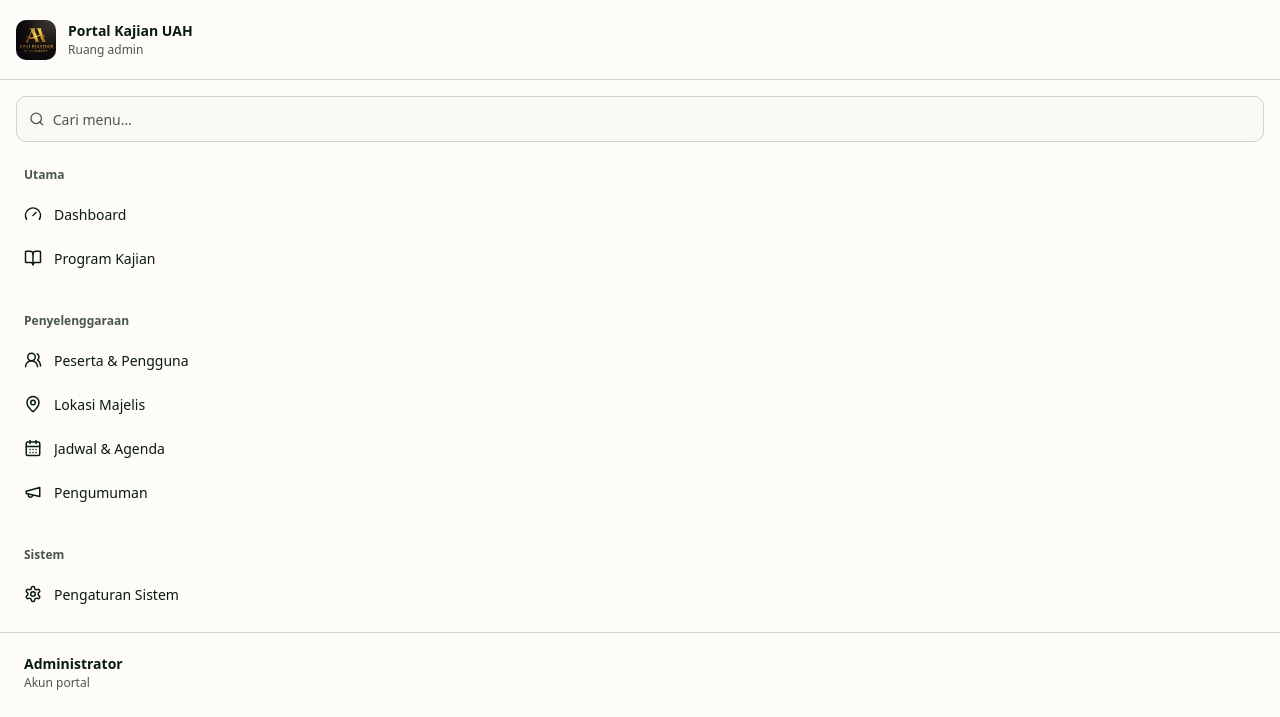
Test: Portal navigation › searches menus and offers a reset when there are no matches
This screenshot has width=1280, height=717.
Type "kuis" into the search field named "Cari menu admin" at [652, 119], box x1=53 y1=97 x2=1251 y2=141
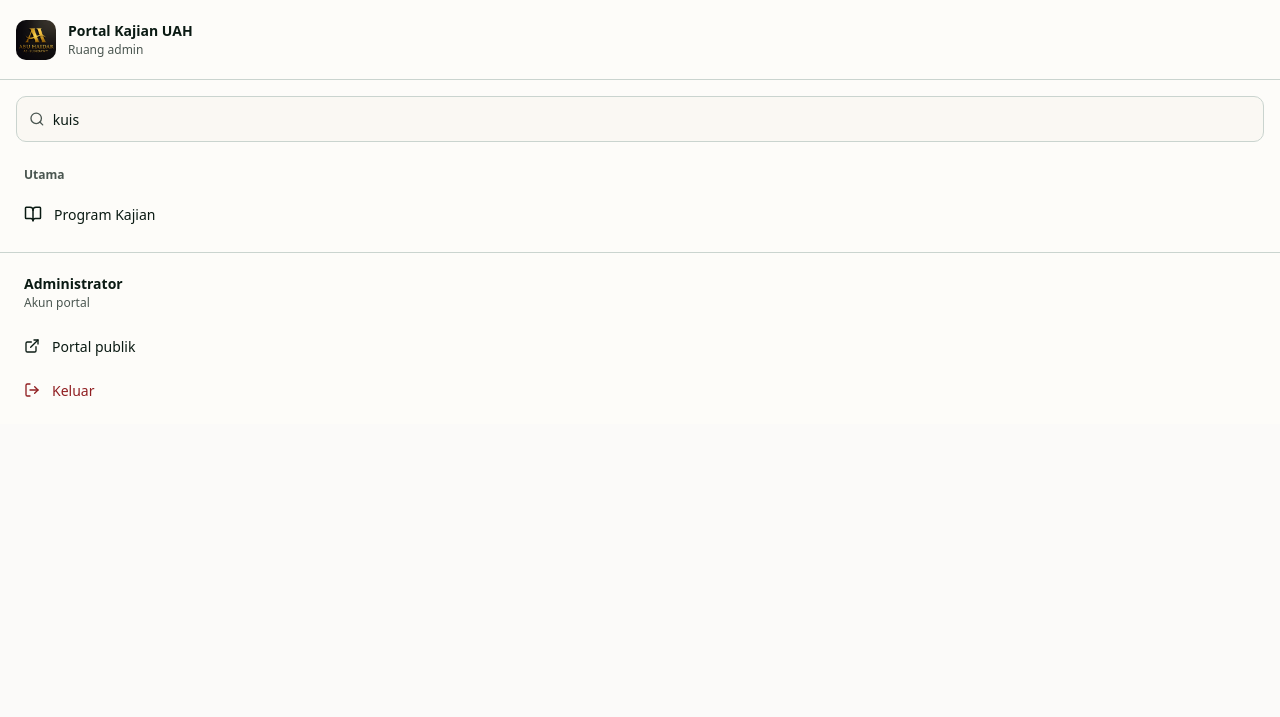
Result: the link "Pengaturan Sistem" is gone
Replace the text in the search field with "zzzz" at [652, 119], box x1=53 y1=97 x2=1251 y2=141
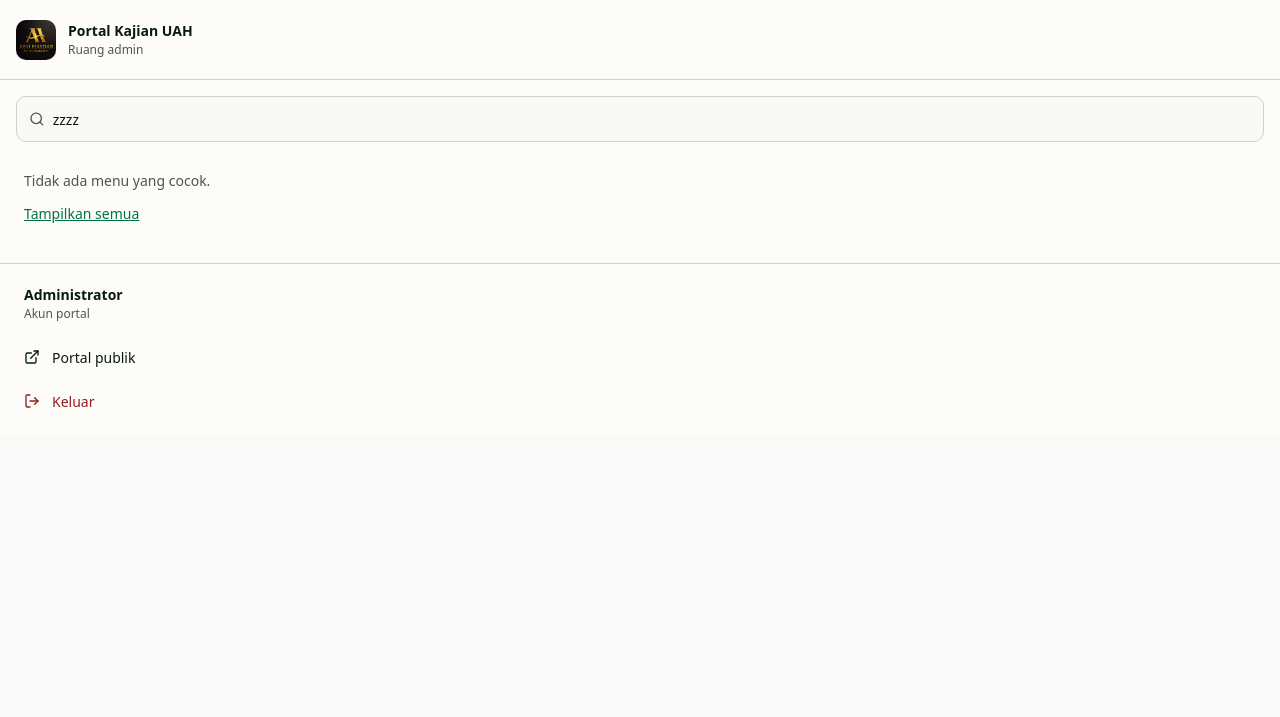
Result: the text "Tidak ada menu yang cocok." is shown at x1=24 y1=171 x2=210 y2=190
Click the button "Tampilkan semua" at [82, 213], box x1=24 y1=191 x2=139 y2=235
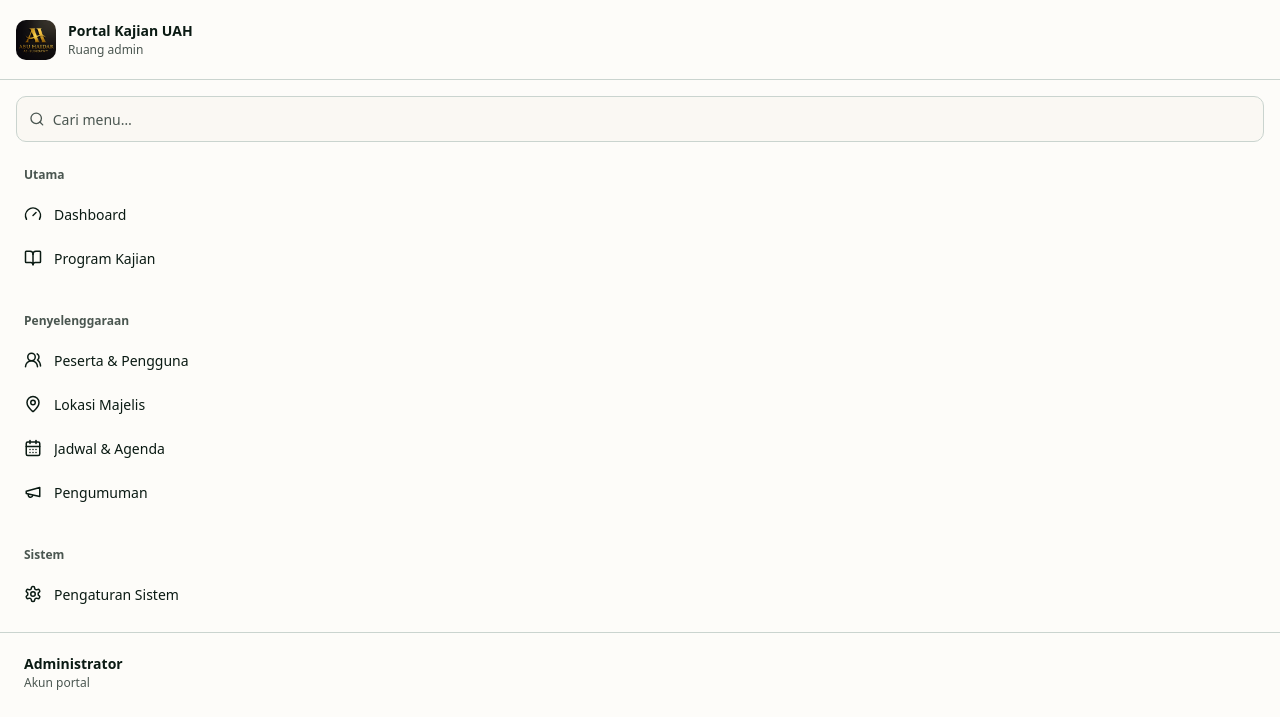
Result: the link "Pengaturan Sistem" is shown at x1=24 y1=584 x2=179 y2=604
